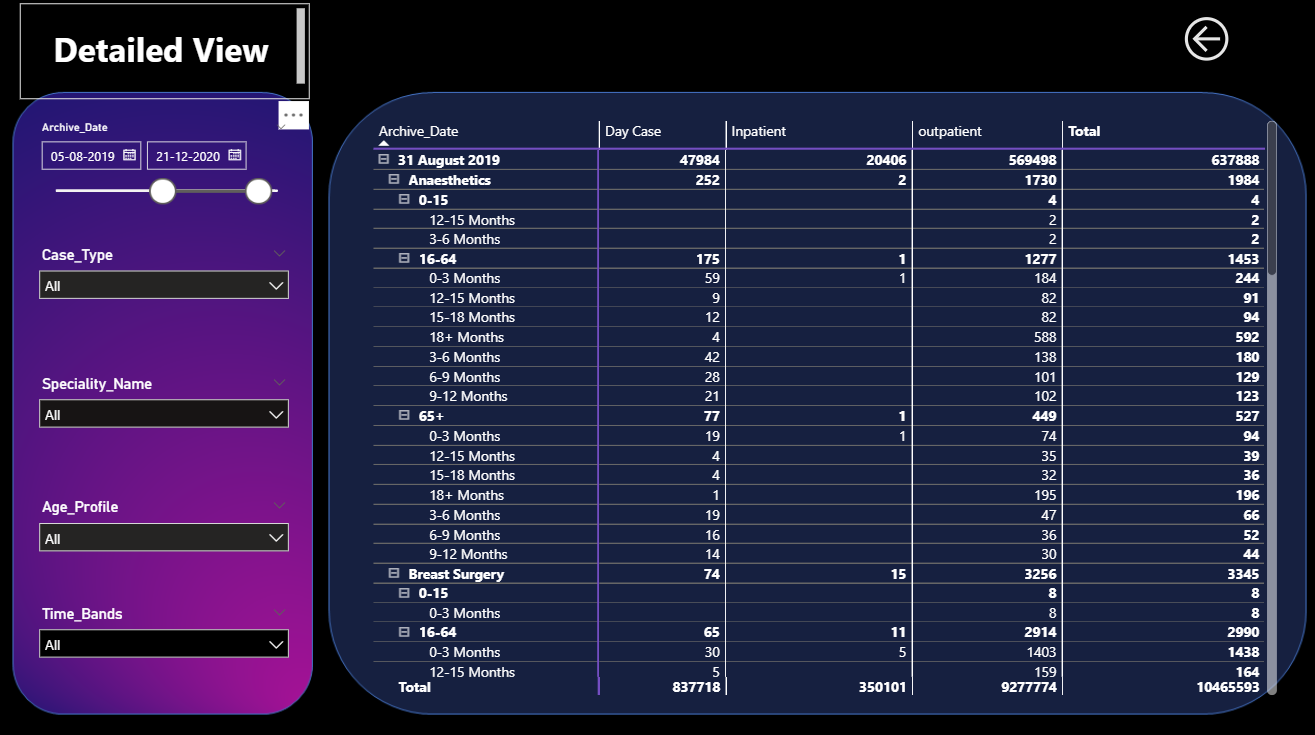

The page's visual inventory and layout, read from the dashboard file:
{"tool":"powerbi","page":{"name":"Detail","canvas":[1280,720],"ordinal":1},"visuals":[{"type":"textbox","box":[22.9,5.7,280,92.9],"z":0},{"type":"slicer","fields":{"Values":["All_Data.Archive_Date"]},"box":[31.4,114.3,261.4,98.6],"z":1000},{"type":"slicer","fields":{"Values":["All_Data.Case_Type"]},"box":[31.4,235.7,261.4,98.6],"z":2000},{"type":"slicer","fields":{"Values":["All_Data.Speciality_Name"]},"box":[31.4,360,261.4,92.9],"z":3000},{"type":"slicer","fields":{"Values":["All_Data.Age_Profile"]},"box":[31.4,478.6,261.4,82.9],"z":4000},{"type":"slicer","fields":{"Values":["All_Data.Time_Bands"]},"box":[31.4,581.4,261.4,82.9],"z":5000},{"type":"pivotTable","fields":{"Rows":["All_Data.Archive_Date","All_Data.Speciality_Name","All_Data.Age_Profile","All_Data.Time_Bands"],"Columns":["All_Data.Case_Type"],"Values":["Sum(All_Data.Total)"]},"box":[360,114.3,881.4,564.3],"z":6000},{"type":"actionButton","box":[1141.4,12.9,100,54.3],"z":7000}]}

Visuals, with their boxes in screenshot pixels (x1, y1, x2, y2), scaled from the page's 1280x720 canvas onto the 1315x735 screenshot:
textbox: [left=24, top=6, right=311, bottom=101]
slicer - All_Data.Archive_Date: [left=32, top=117, right=301, bottom=217]
slicer - All_Data.Case_Type: [left=32, top=241, right=301, bottom=341]
slicer - All_Data.Speciality_Name: [left=32, top=368, right=301, bottom=462]
slicer - All_Data.Age_Profile: [left=32, top=489, right=301, bottom=573]
slicer - All_Data.Time_Bands: [left=32, top=594, right=301, bottom=678]
pivotTable - All_Data.Archive_Date x All_Data.Speciality_Name: [left=370, top=117, right=1275, bottom=693]
actionButton: [left=1173, top=13, right=1275, bottom=69]
